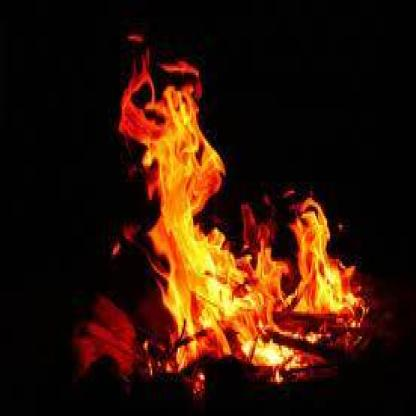Fire: (69, 15, 386, 402)
